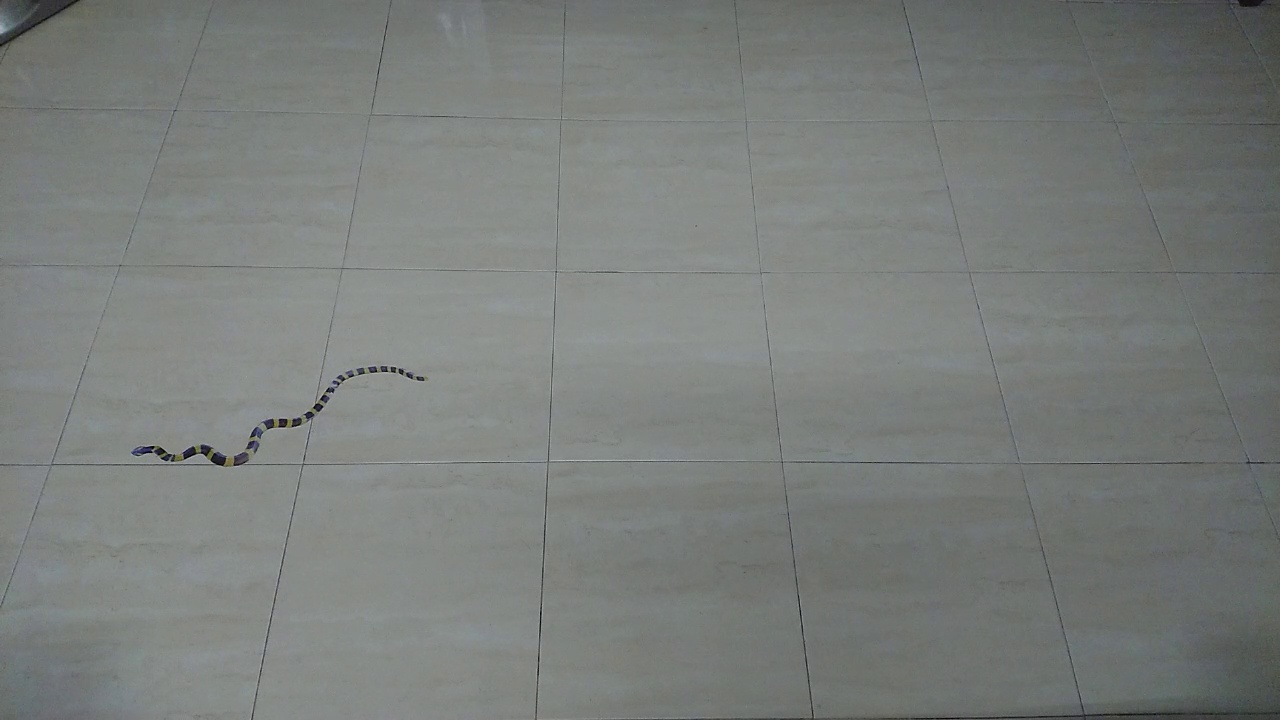snake: (124, 353, 446, 479)
